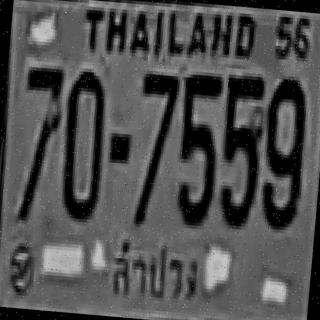N00: (57, 65, 108, 218)
N05: (214, 71, 265, 224), (172, 70, 222, 224)
N07: (129, 70, 178, 226), (13, 63, 62, 219)
N09: (256, 74, 309, 228)
P20: (106, 231, 207, 309)
